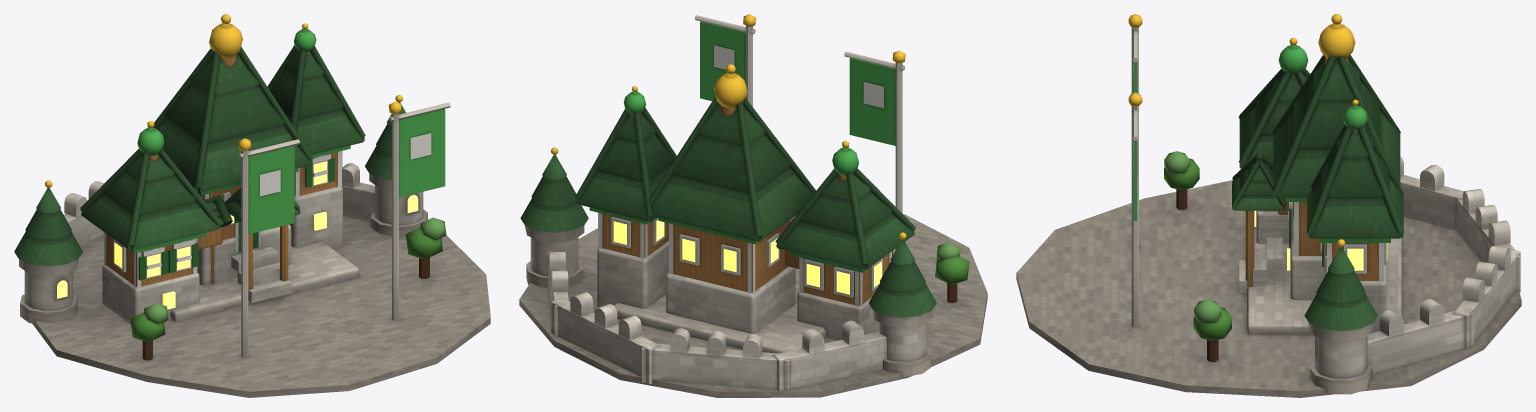
The model's file is residence_dl3_green.glb.
3 views of the same model, side by side, from view 1: azimuth 30°, elevation 25°; view 2: azimuth 150°, elevation 25°; view 3: azimuth 270°, elevation 25° (orthographic). The views are drawn at different scales.
Parts seen in each view (by area): view 1: residence_dl3_green; view 2: residence_dl3_green; view 3: residence_dl3_green.
Boxes of the visible parts, x1,y1,x2,y2 form: residence_dl3_green: (14,14,490,397); residence_dl3_green: (519,14,987,397); residence_dl3_green: (1016,14,1521,397).
Size of the model in its own units: 1.66 by 0.9928 by 1.63.
Materials: 2 (1 with a texture image).
